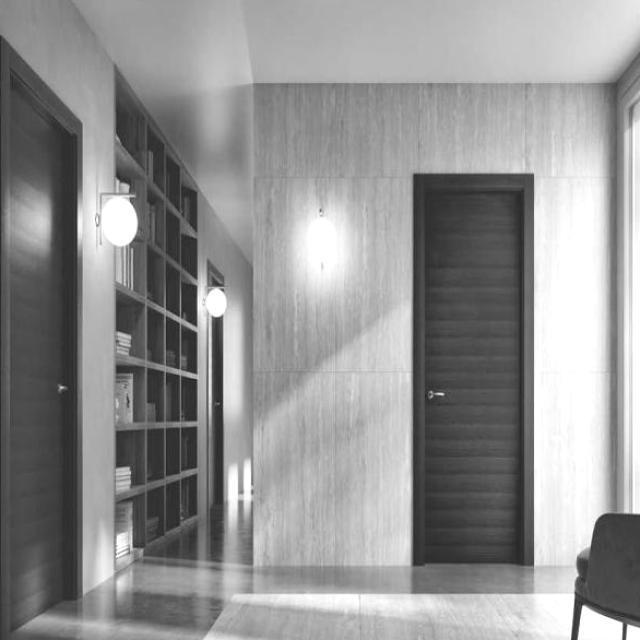door: (0, 36, 91, 634), (412, 172, 532, 565)
